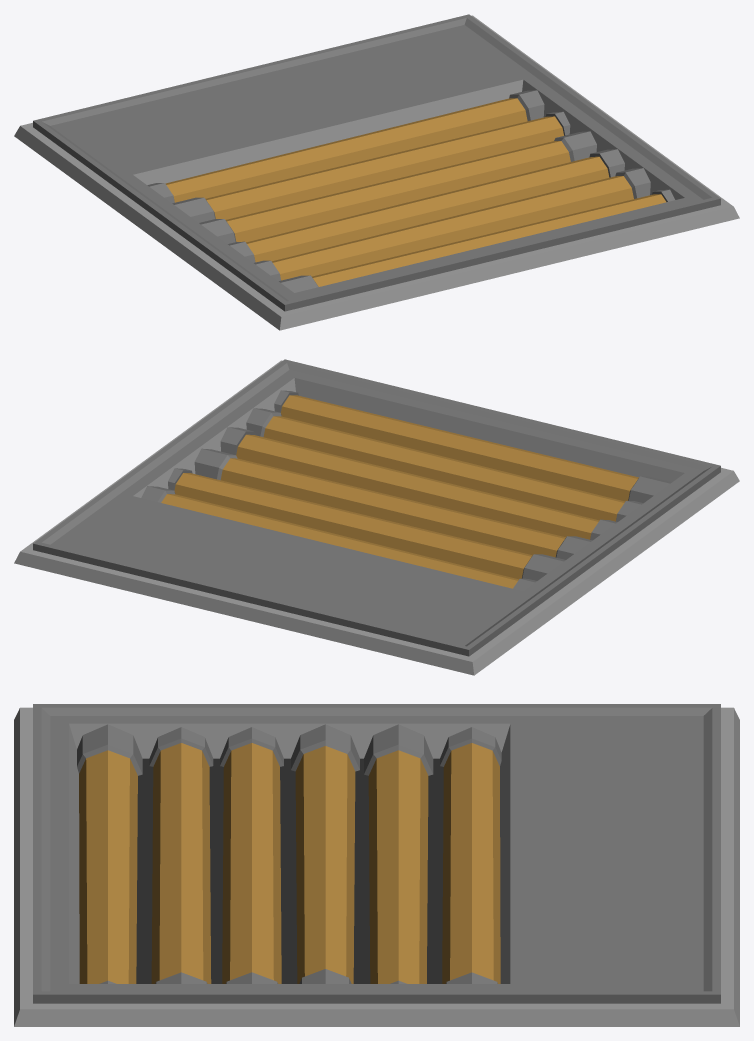
File: RoofTile_Sides_Pipes.glb
3 views of the same model, one above another, from view 1: azimuth 30°, elevation 25°; view 2: azimuth 150°, elevation 25°; view 3: azimuth 270°, elevation 25° (orthographic). The views are drawn at different scales.
Parts seen in each view (by area): view 1: RoofTile_Sides_Pipes; view 2: RoofTile_Sides_Pipes; view 3: RoofTile_Sides_Pipes.
Boxes of the visible parts, x1,y1,x2,y2 form: RoofTile_Sides_Pipes: [14, 14, 739, 330]; RoofTile_Sides_Pipes: [14, 359, 739, 675]; RoofTile_Sides_Pipes: [14, 704, 739, 1026].
Size of the model in its own units: 0.68 by 0.0385 by 0.68.
